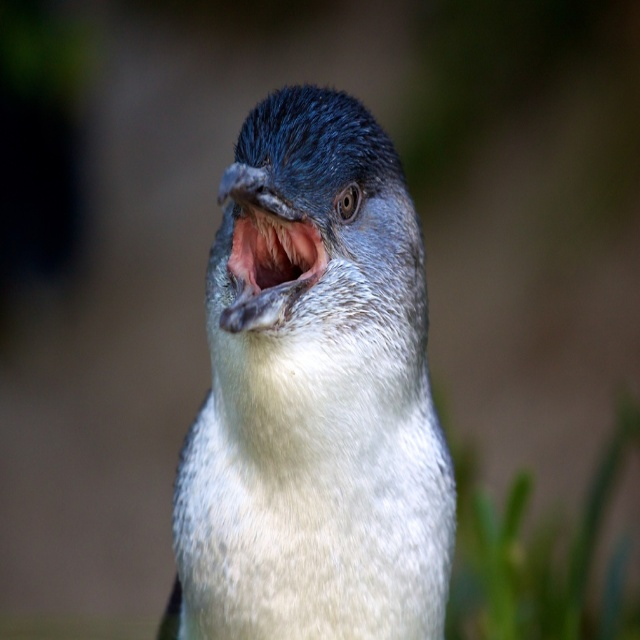Penguin: (155, 85, 458, 639)
